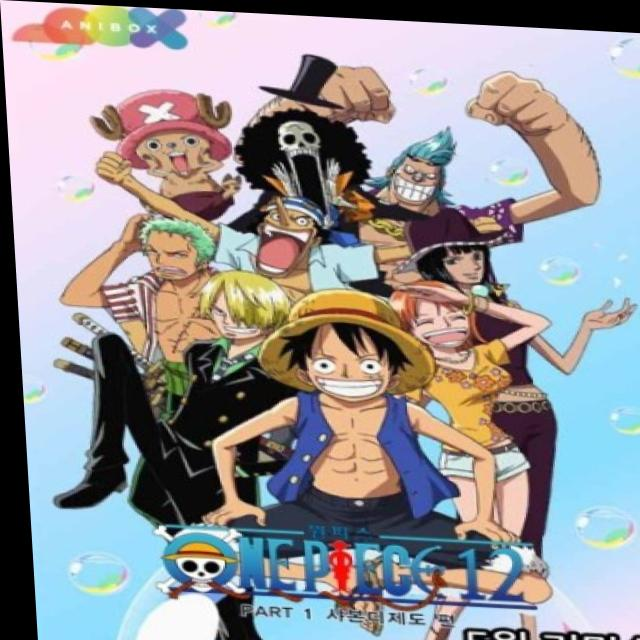Blook: (238, 99, 376, 217)
Chyopa: (95, 74, 252, 215)
Franky: (375, 119, 478, 216)
Luffy: (271, 288, 422, 410)
Nami: (381, 274, 493, 359)
NicoRobin: (394, 212, 515, 293)
Sangdi: (189, 264, 289, 355)
Usopp: (221, 184, 330, 281)
Zoro: (128, 214, 226, 286)
